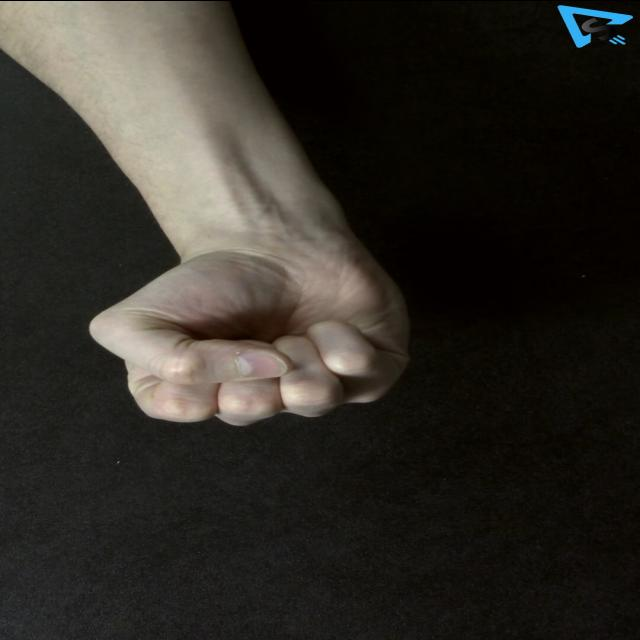Rock: (83, 245, 415, 424)
